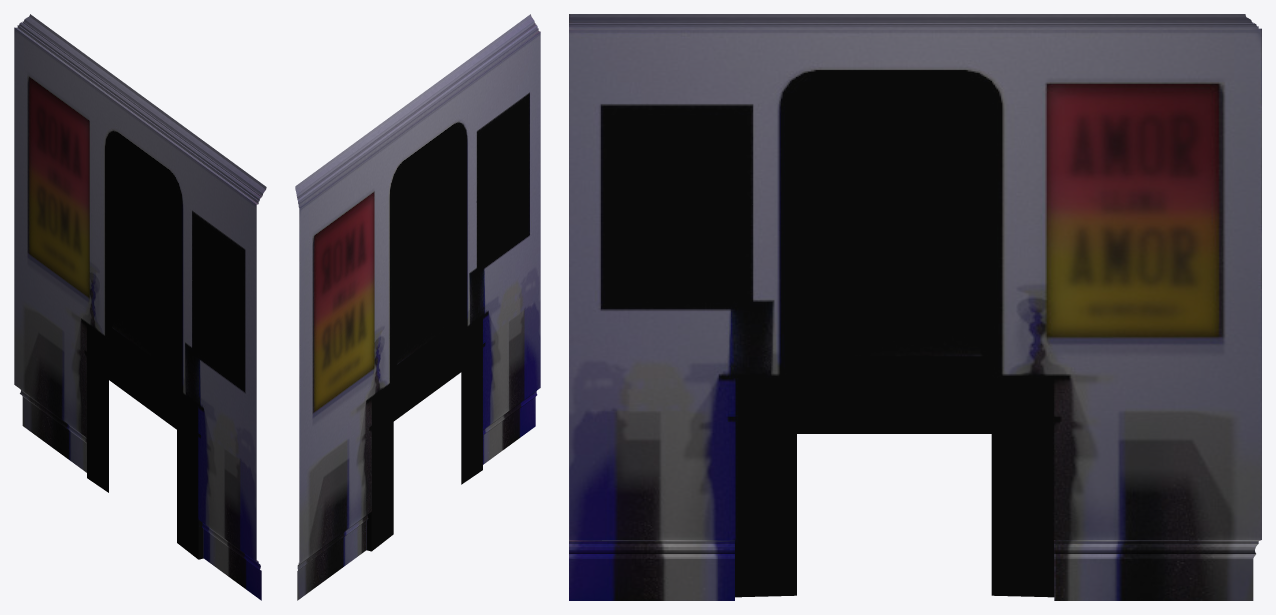
Rendered from wall_left_front.glb.
The picture shows the model from 3 angles, left to right: view 1: azimuth 30°, elevation 25°; view 2: azimuth 150°, elevation 25°; view 3: azimuth 270°, elevation 25°; orthographic projection. The views are drawn at different scales.
Parts seen in each view (by area): view 1: wall_left_front; view 2: wall_left_front; view 3: wall_left_front.
Part boxes in pixels (x1,y1,x2,y2): wall_left_front: (14,14,266,600); wall_left_front: (295,14,540,600); wall_left_front: (569,14,1261,600).
Size of the model in its own units: 0.48 by 18.8 by 20.
1 material, 1 textured.
